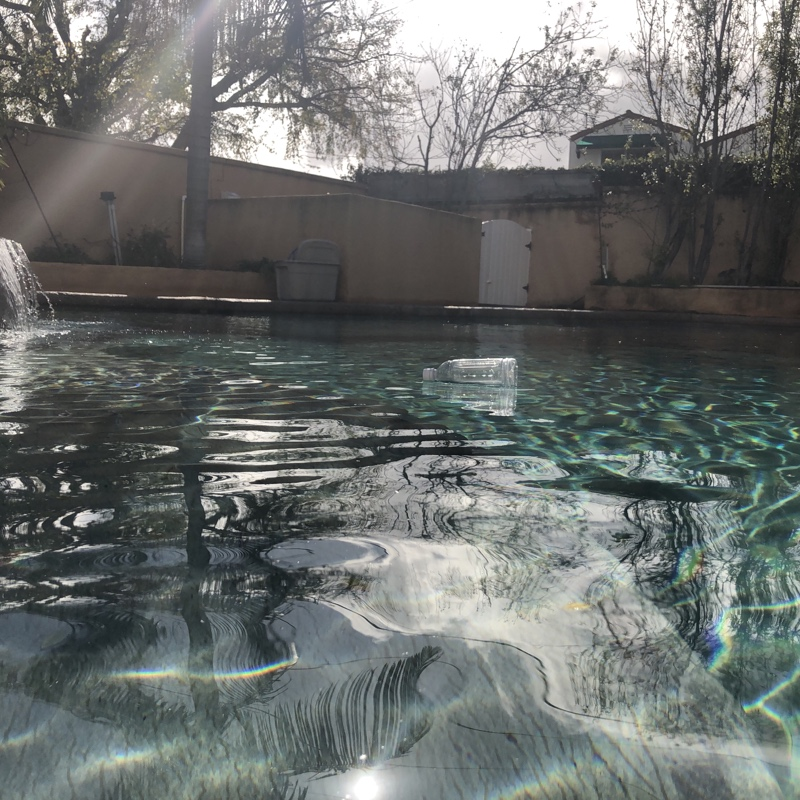Plastic Bottle: (419, 354, 519, 392)
